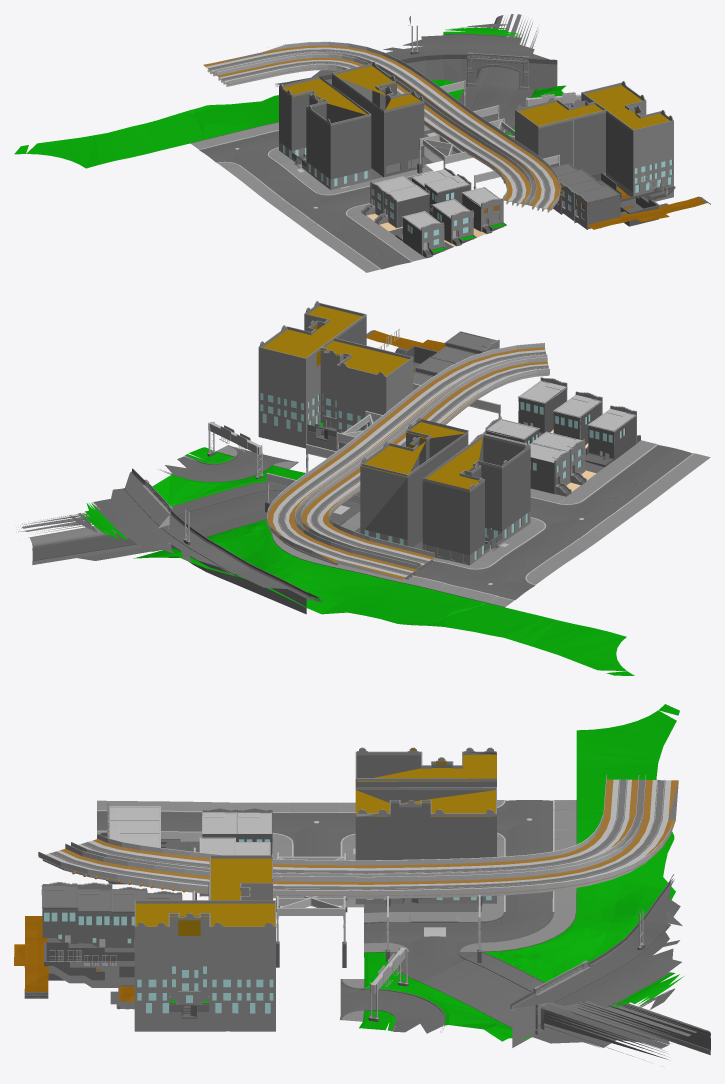
File: bronx_e2_9.FBX
The picture shows the model from 3 angles, top to bottom: view 1: azimuth 30°, elevation 25°; view 2: azimuth 150°, elevation 25°; view 3: azimuth 270°, elevation 25°; orthographic projection. The views are drawn at different scales.
Visible parts, largest first — view 1: unnamed, null; view 2: unnamed, null; view 3: unnamed, null.
Boxes of the visible parts, x1,y1,x2,y2 form: unnamed: (14, 14, 710, 272); null: (179, 41, 500, 227); unnamed: (16, 301, 710, 675); null: (250, 412, 613, 626); unnamed: (14, 704, 710, 1060); null: (248, 747, 680, 932).
Bounding box in the file's own units: 211 × 32.44 × 177.
